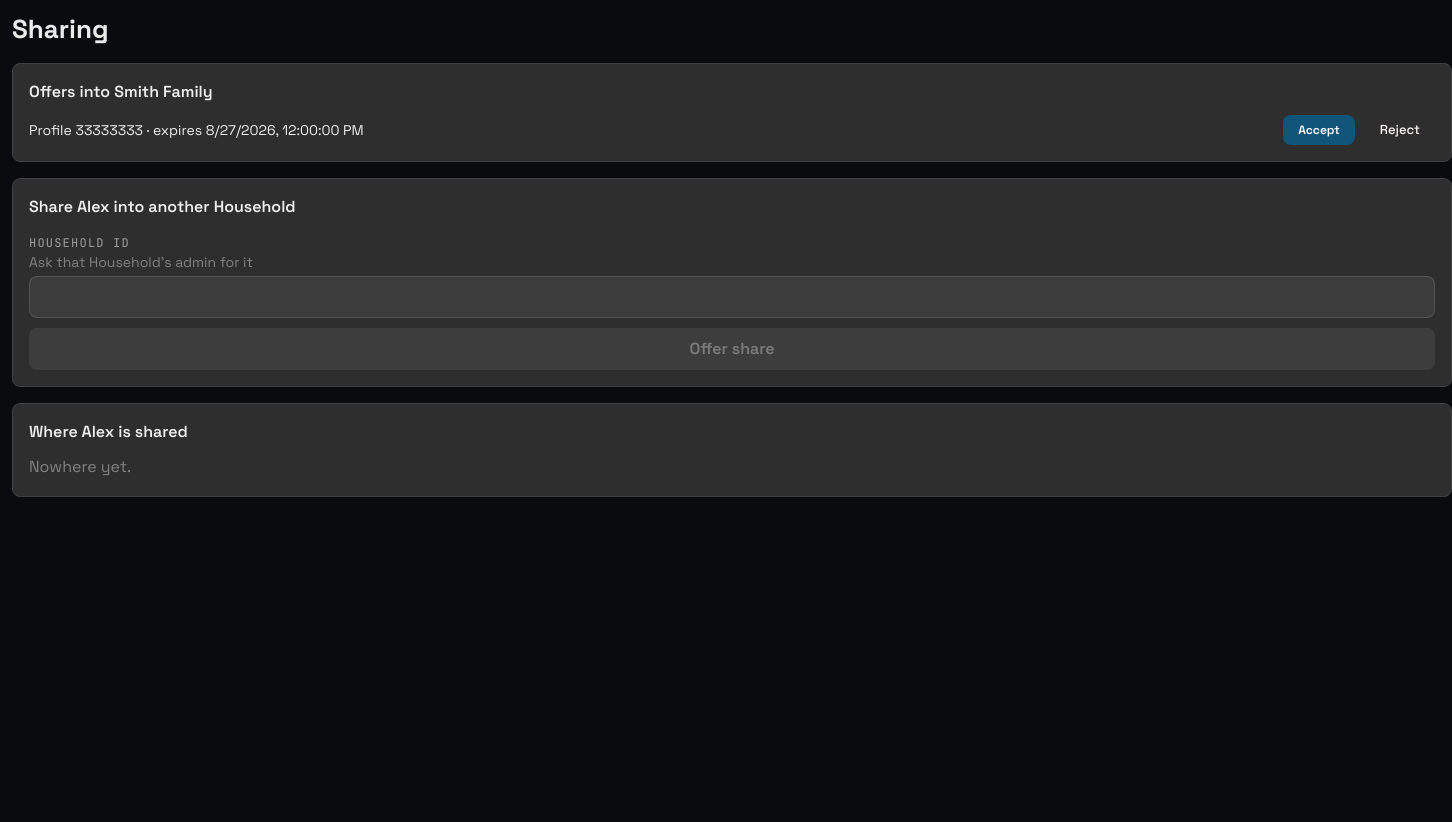
SharingScreen › shouldExplainADecisionThatCouldNotReachTheServerWithoutAskingToTryAgain
Click the button "Accept": point(1319, 130) [1283,115,1355,145]
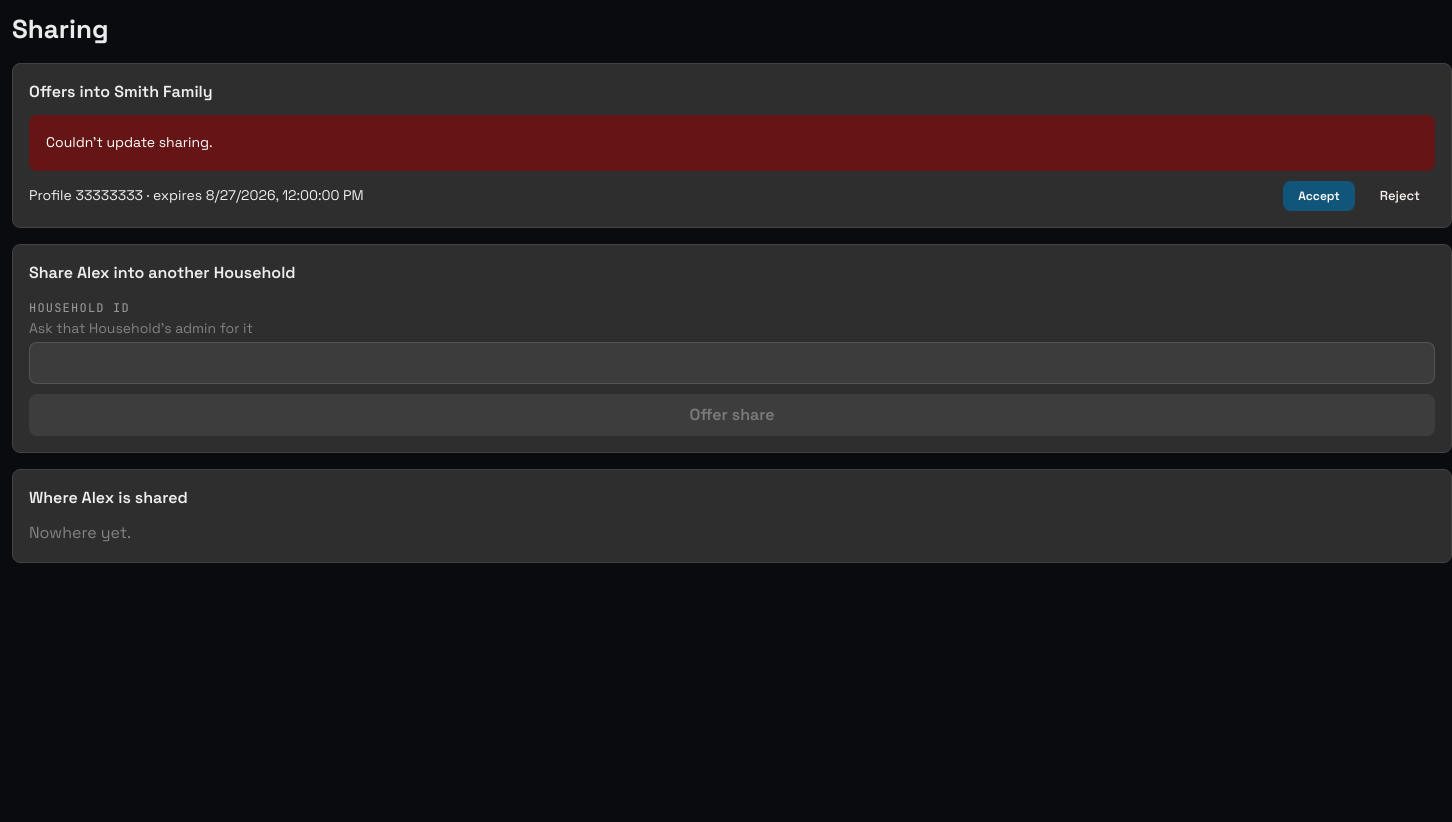
expect the message reads "Couldn't update sharing.": met, box [46,133,212,151]
